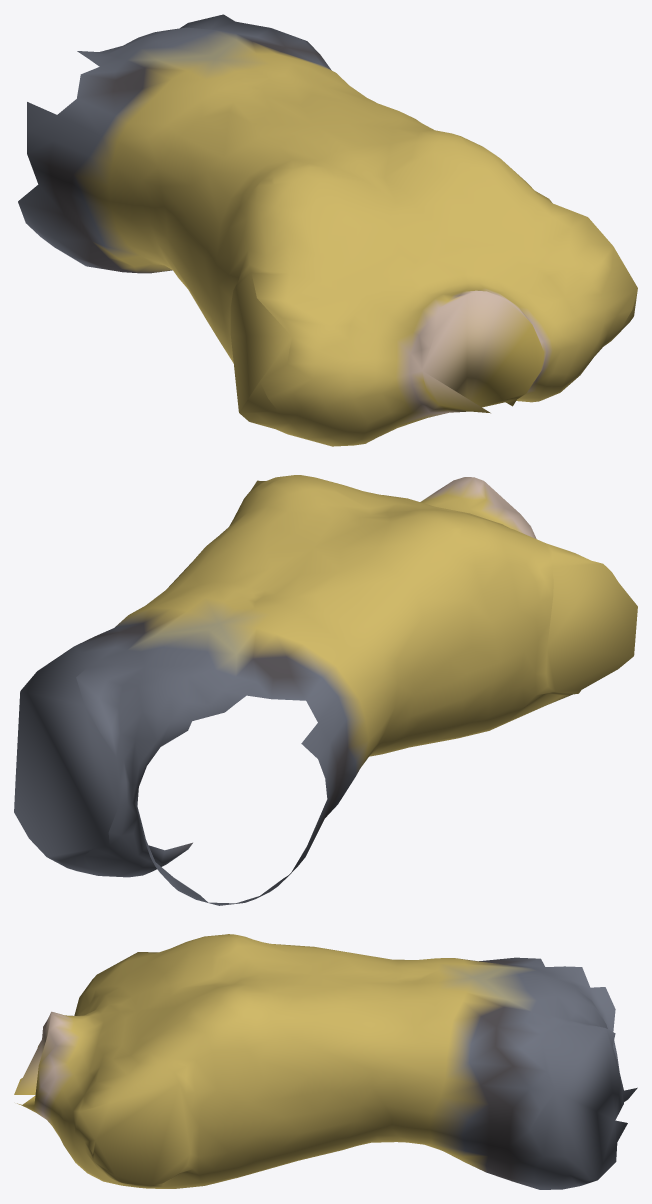
Rendered from teibi_torso_authored.glb.
The picture shows the model from 3 angles, top to bottom: view 1: azimuth 30°, elevation 25°; view 2: azimuth 150°, elevation 25°; view 3: azimuth 270°, elevation 25°; orthographic projection. The views are drawn at different scales.
Parts seen in each view (by area): view 1: piece_torso; view 2: piece_torso; view 3: piece_torso.
Boxes of the visible parts, x1,y1,x2,y2 form: piece_torso: (18, 14, 637, 446); piece_torso: (14, 475, 637, 905); piece_torso: (14, 934, 637, 1189).
Size of the model in its own units: 0.444 by 0.256 by 0.7437.
